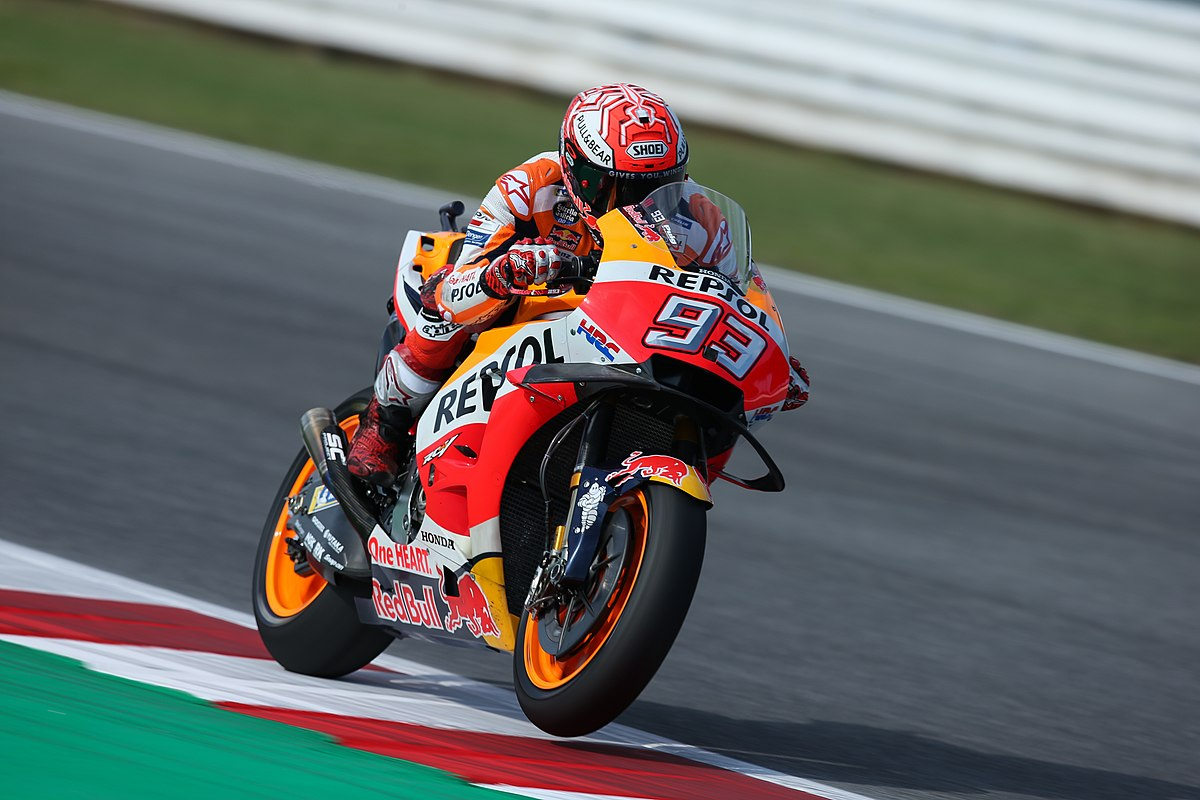helmet: (550, 62, 694, 181)
